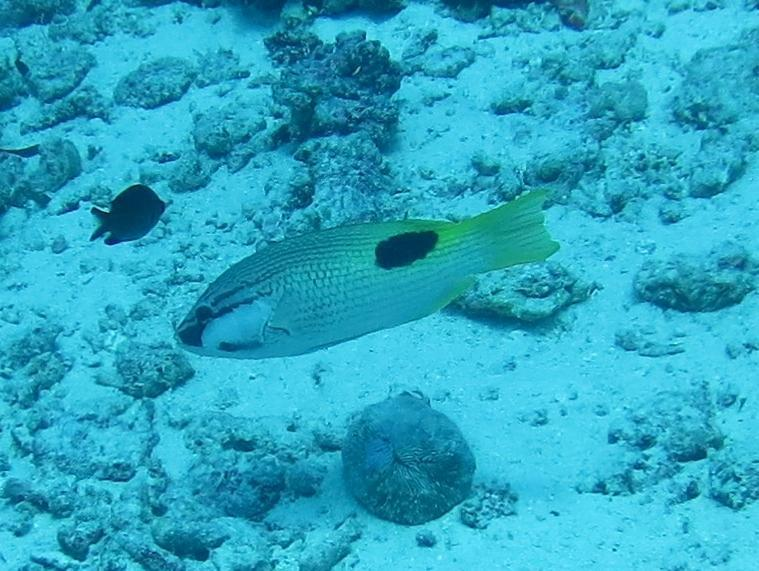Fish: (163, 164, 596, 416)
